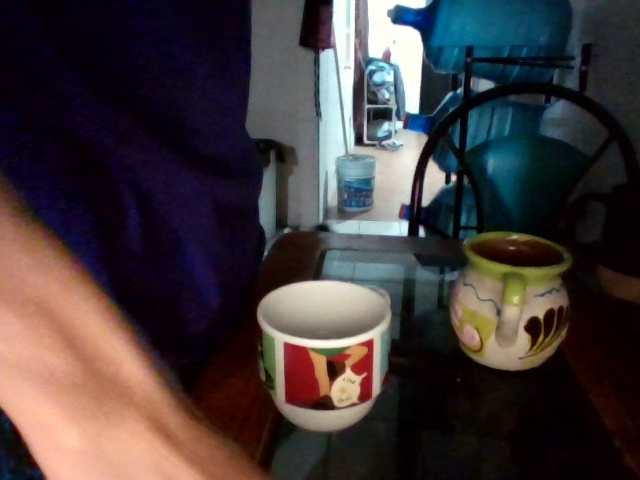taza: (256, 279, 392, 434), (448, 231, 574, 372), (335, 154, 377, 217)
